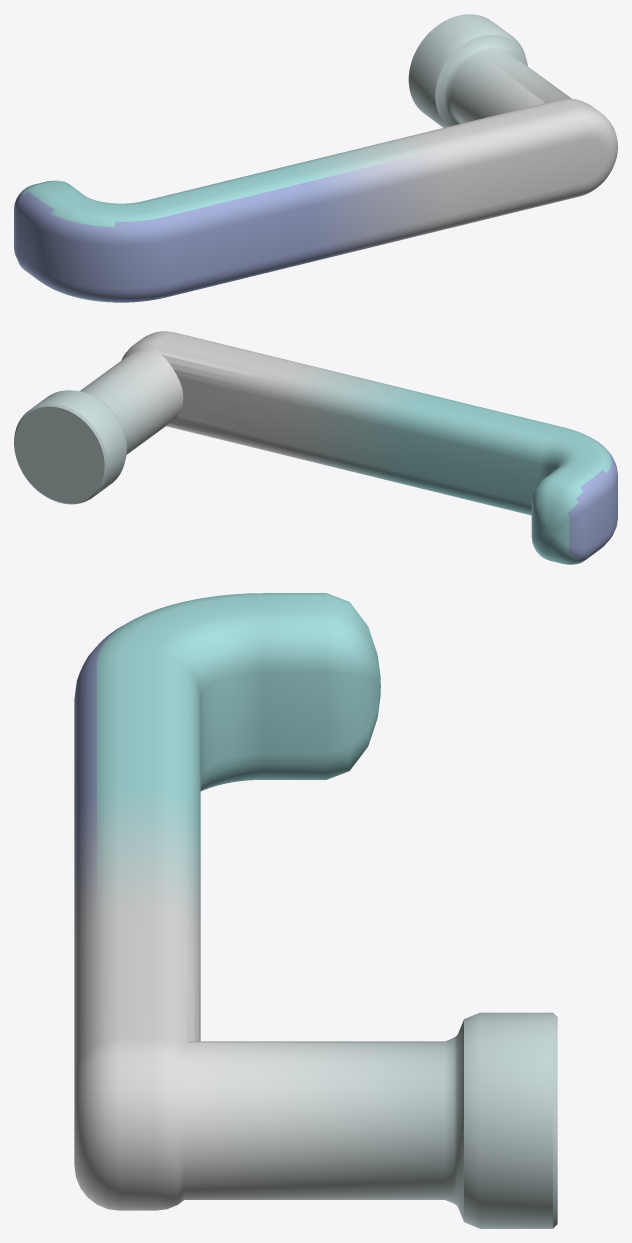
File: Kit_Lock_Lever.fbx
3 renders of one model, top to bottom at view 1: azimuth 30°, elevation 25°; view 2: azimuth 150°, elevation 25°; view 3: azimuth 270°, elevation 25°, orthographic. The views are drawn at different scales.
Visible parts, largest first — view 1: Kit_Lock_Lever_LOD0; view 2: Kit_Lock_Lever_LOD0; view 3: Kit_Lock_Lever_LOD0.
Boxes of the visible parts, <box> form: Kit_Lock_Lever_LOD0: <box>14,14,617,302</box>; Kit_Lock_Lever_LOD0: <box>14,331,617,564</box>; Kit_Lock_Lever_LOD0: <box>74,593,557,1228</box>.
Size of what is drawn, in the model's own units: 0.133 by 0.024 by 0.0536.
